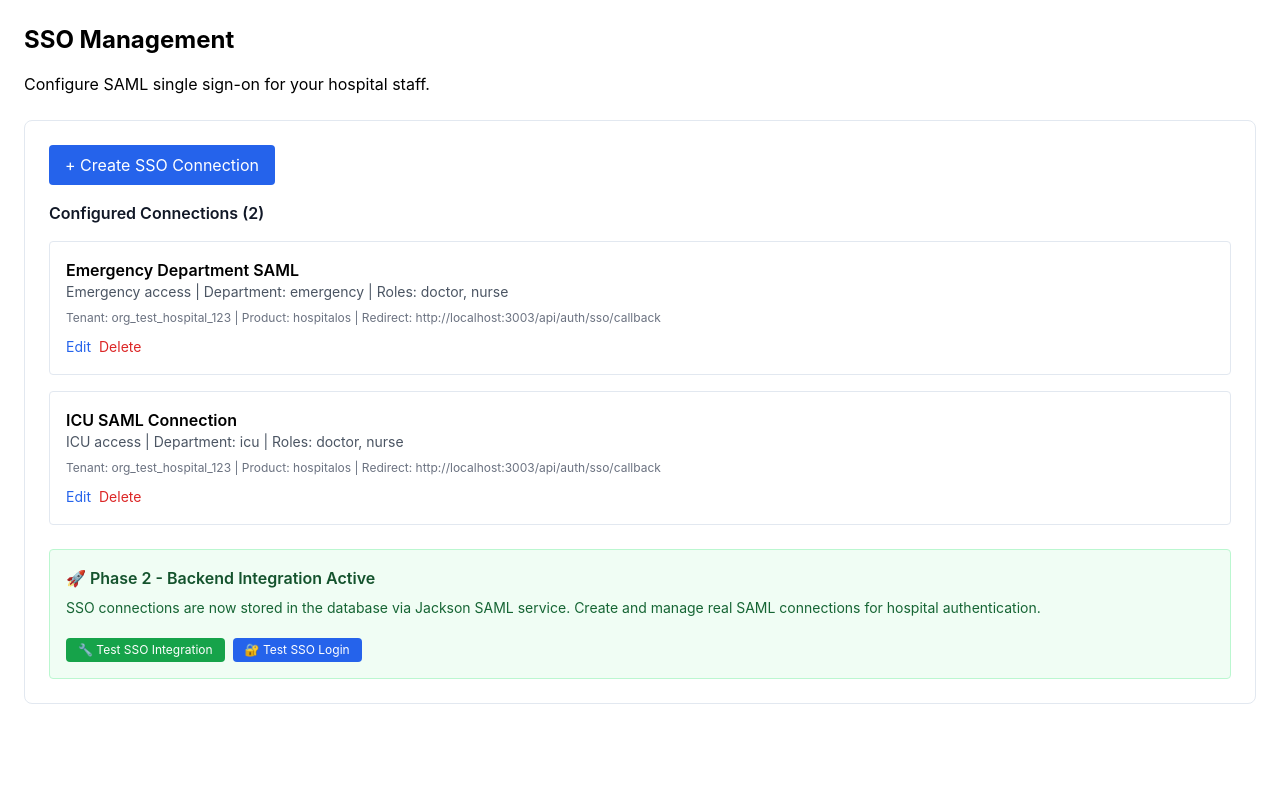
Test: SSO Management Page UI Tests › Create Connection Dialog › should open create dialog when button clicked
The image size is (1280, 800).
Step 1. Click the button "+ Create SSO Connection" → (162, 165), box left=49, top=145, right=275, bottom=185
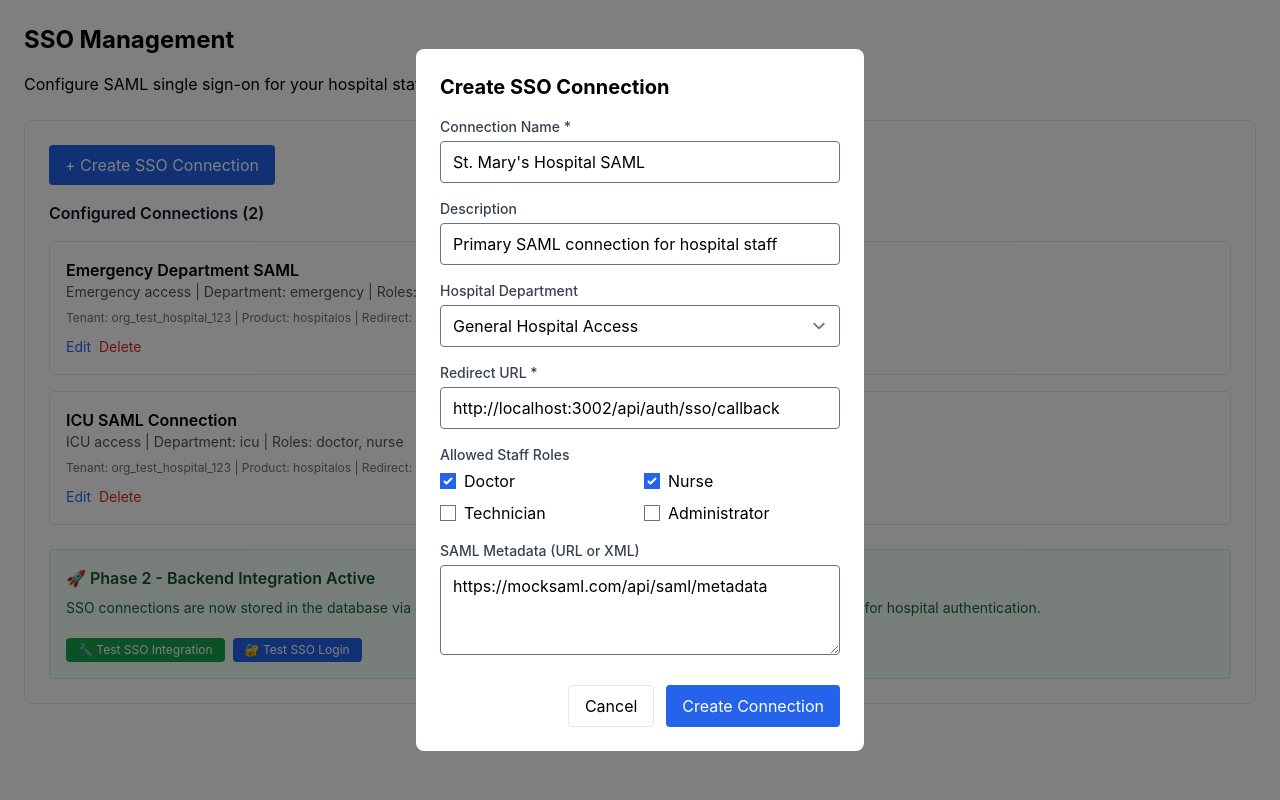
expect the heading "Create SSO Connection" is shown: met, box left=440, top=75, right=669, bottom=99
